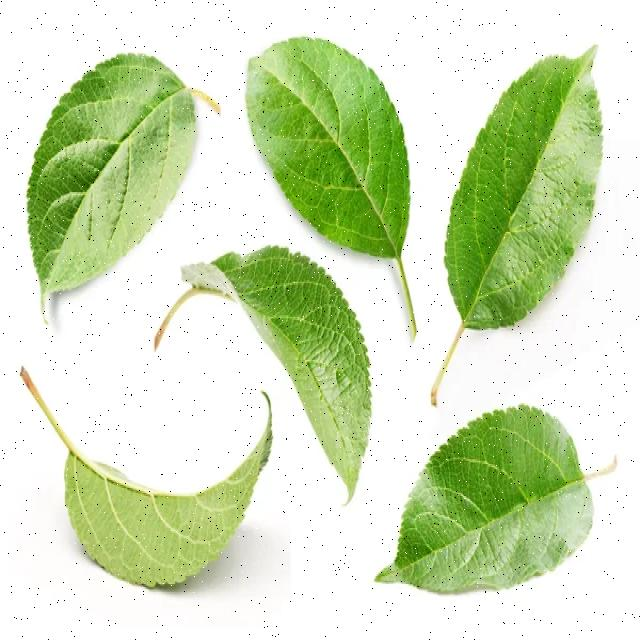yaprak: (39, 382, 254, 574), (188, 239, 368, 467), (30, 31, 179, 301), (242, 55, 424, 262), (390, 414, 583, 574), (492, 41, 584, 322)
